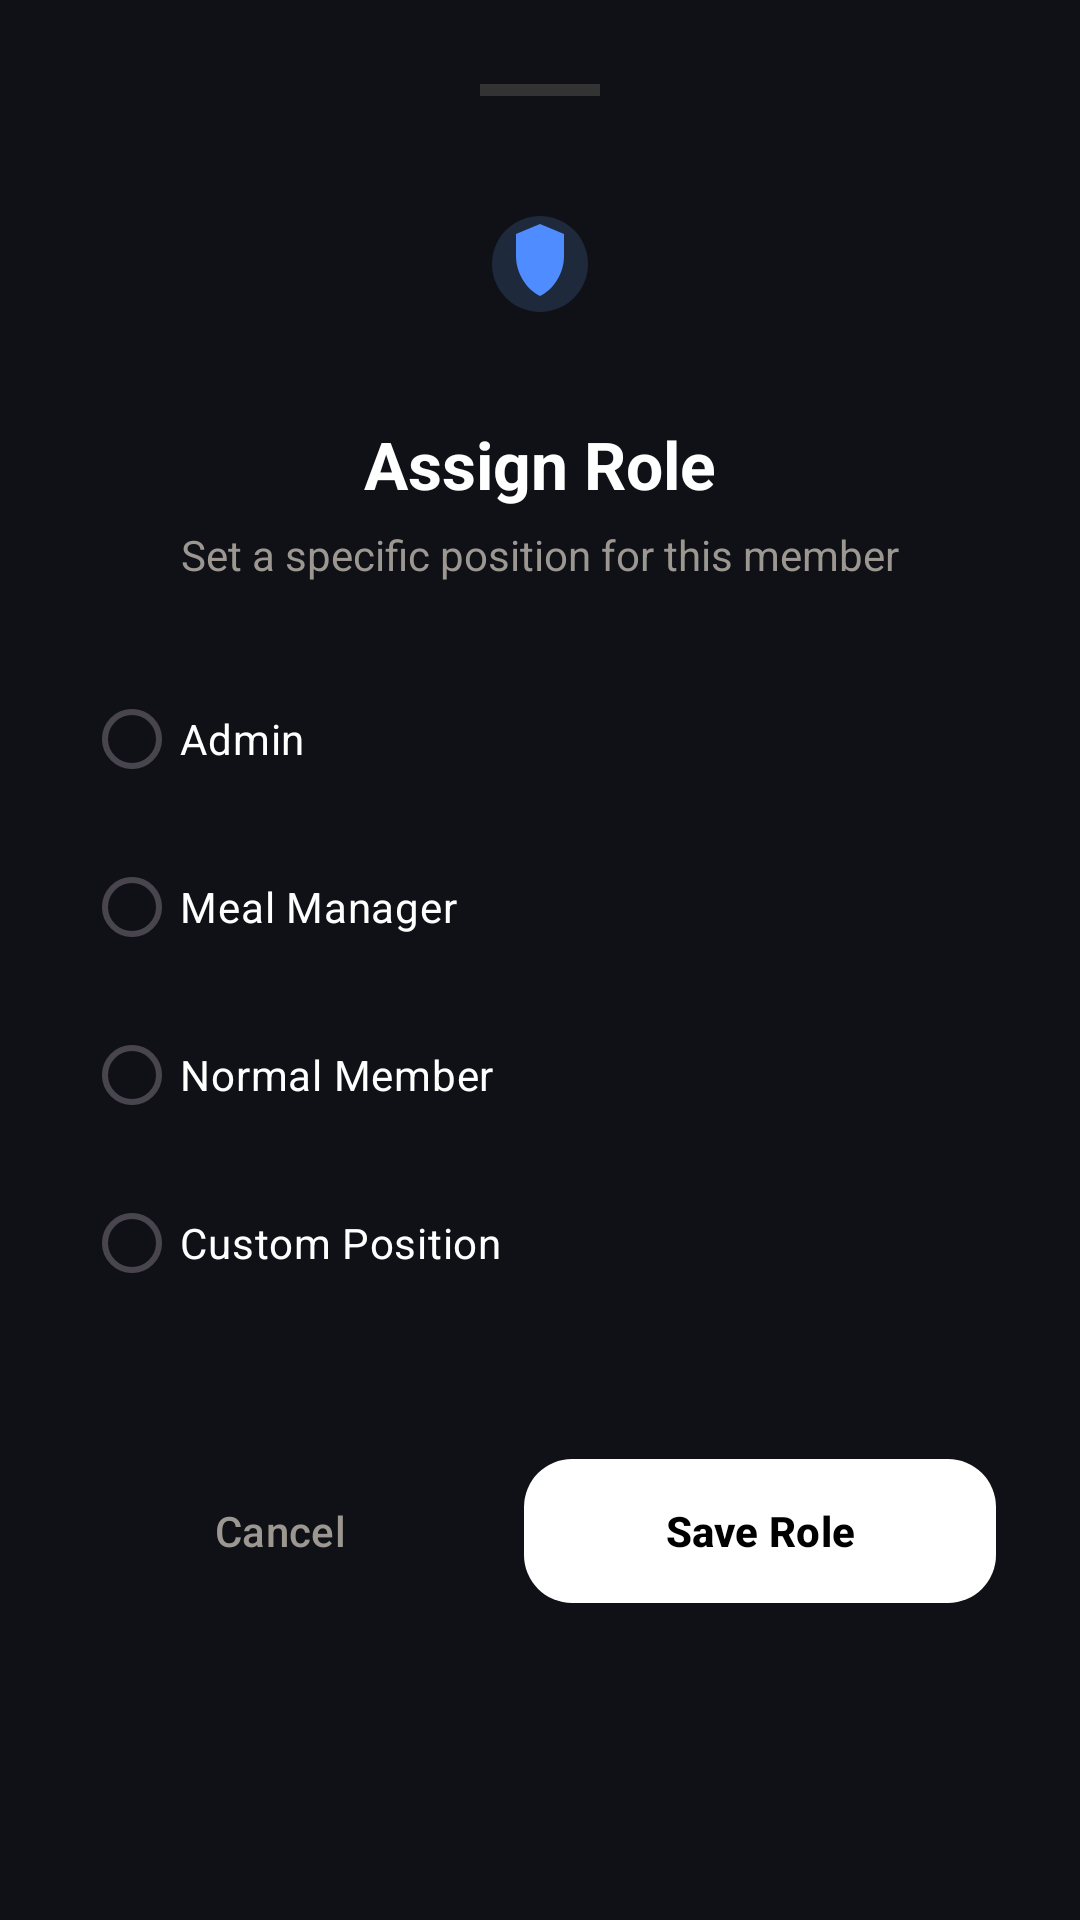

Icons on this 1080x1920 Android screen, each with its box as (x1, y1, x2, y2):
admin: (492, 216, 588, 312)
